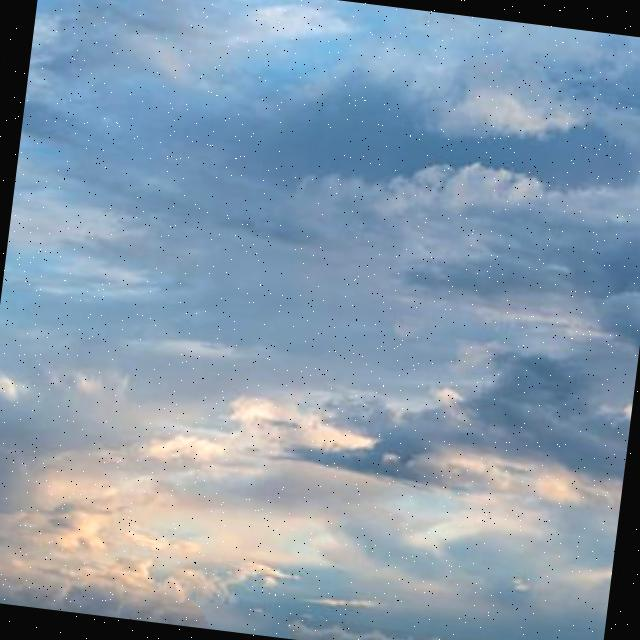Ns: (1, 35, 640, 613)
